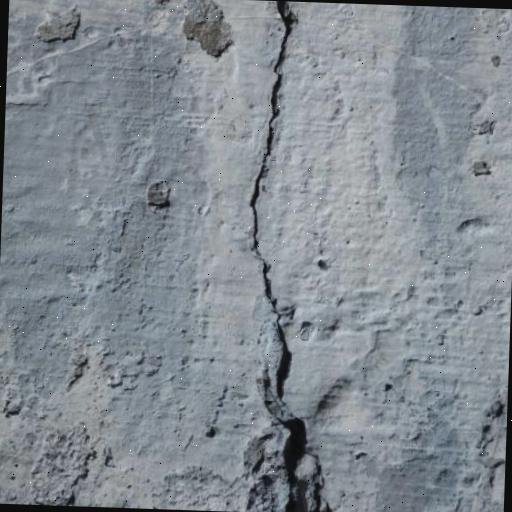spalling: (241, 4, 336, 508)
